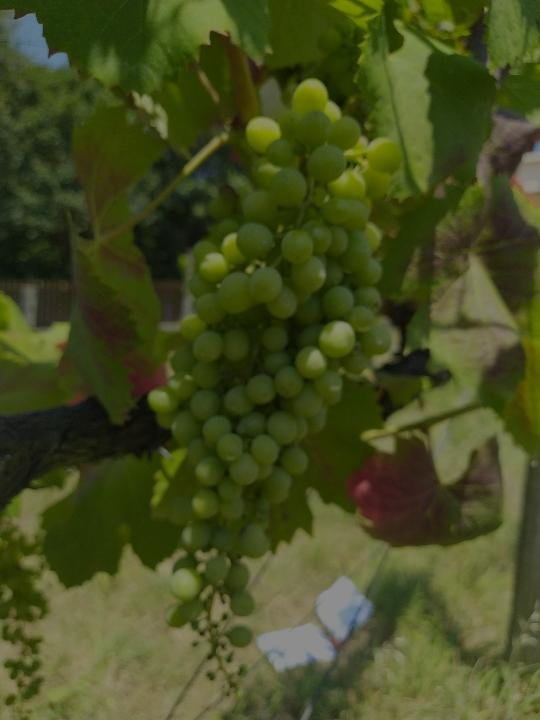grape: (142, 75, 400, 716)
